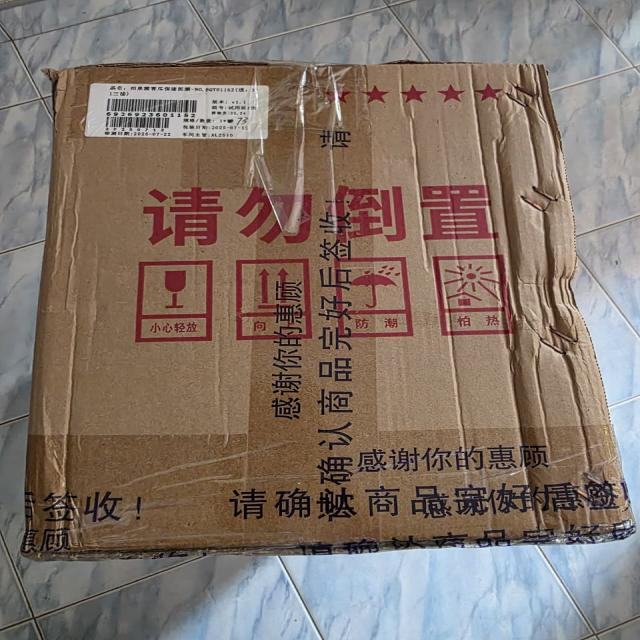carton_box: (28, 54, 635, 571)
export_mark_label: (78, 69, 287, 154)
fragile_label: (127, 253, 221, 349)
keep_dry_label: (334, 248, 422, 349)
protect_from_heat_label: (433, 253, 531, 349)
this_side_up_label: (230, 244, 317, 357)
